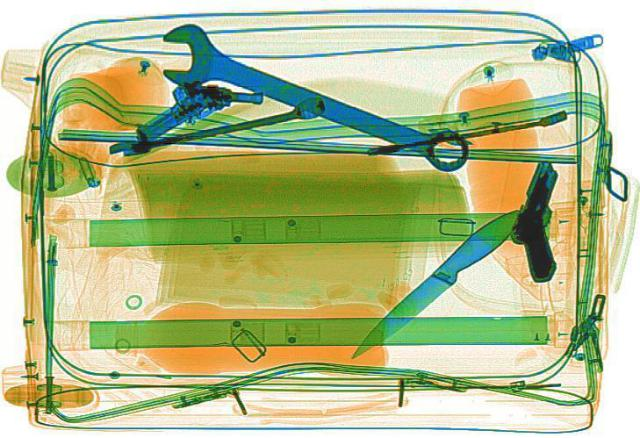Gun: (113, 60, 269, 159), (490, 157, 598, 281)
Knife: (335, 199, 535, 360)
Wrench: (133, 17, 493, 180)
